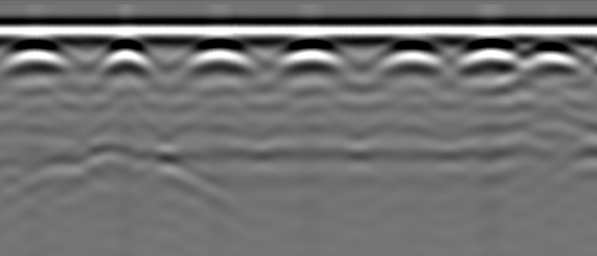steel: (281, 44, 347, 77), (193, 41, 254, 76), (6, 42, 65, 75), (460, 41, 515, 75), (385, 44, 444, 75), (105, 39, 152, 76), (529, 42, 581, 75)
